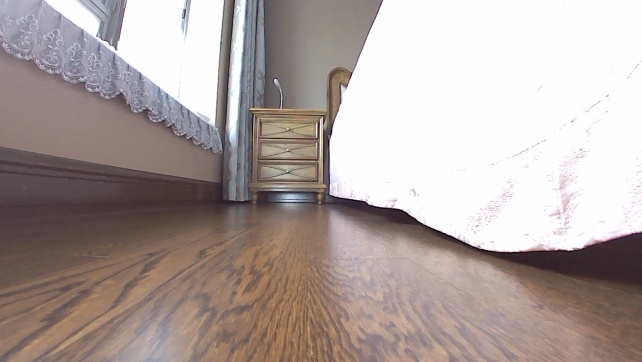bed1: (325, 0, 641, 264)
cabinet: (245, 105, 328, 205)
